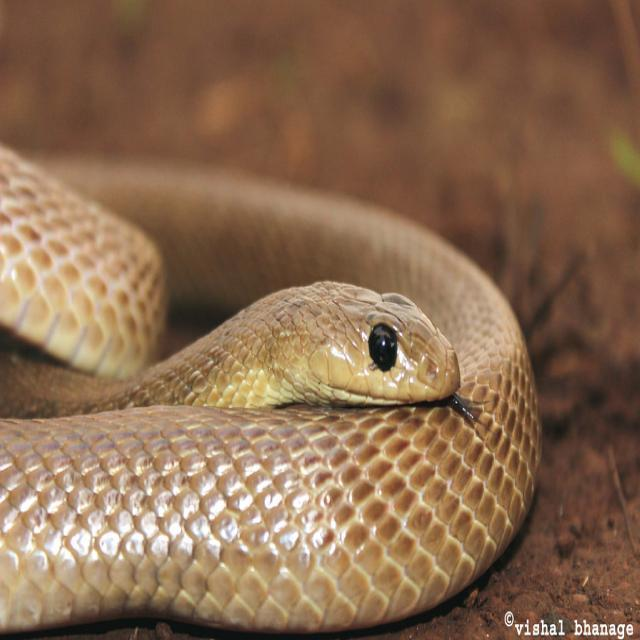Snake: (0, 140, 542, 634)
